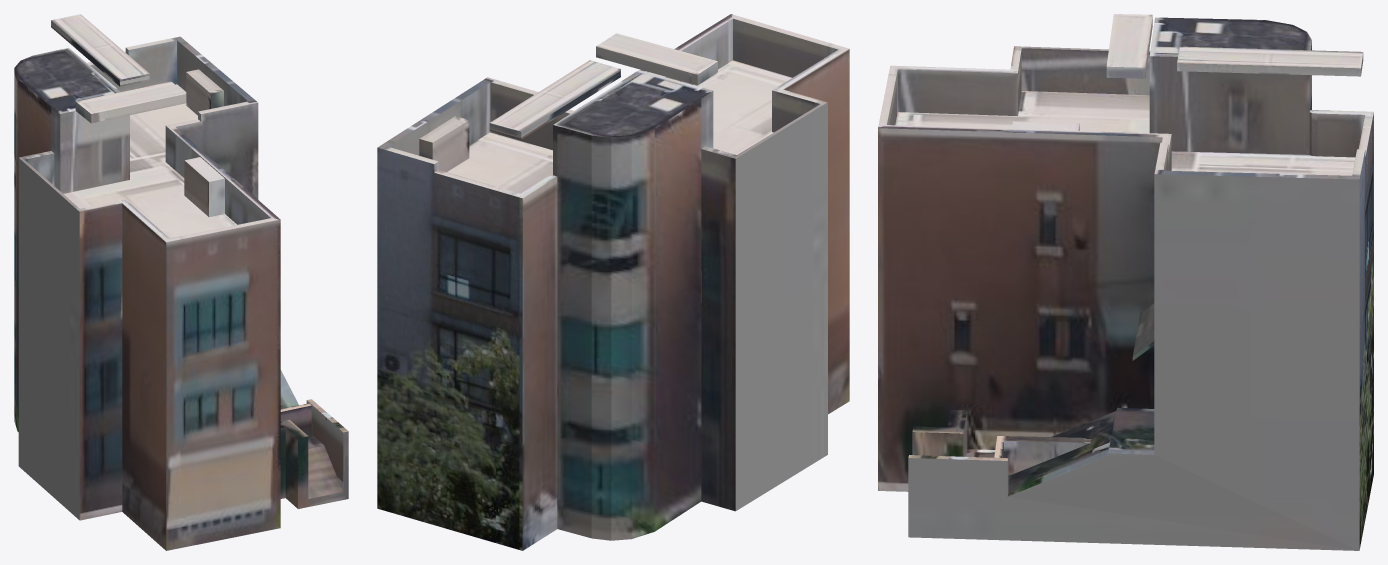
3 views of the same model, side by side, from view 1: azimuth 30°, elevation 25°; view 2: azimuth 150°, elevation 25°; view 3: azimuth 270°, elevation 25° (orthographic). The views are drawn at different scales.
Parts seen in each view (by area): view 1: B280594041301063A0; view 2: B280594041301063A0; view 3: B280594041301063A0.
Boxes of the visible parts, <box> form: B280594041301063A0: <box>14,14,348,550</box>; B280594041301063A0: <box>377,14,849,550</box>; B280594041301063A0: <box>878,14,1373,550</box>.
Bounding box in the file's own units: 8.88 × 12.42 × 13.11.
Materials: 1 (1 with a texture image).
